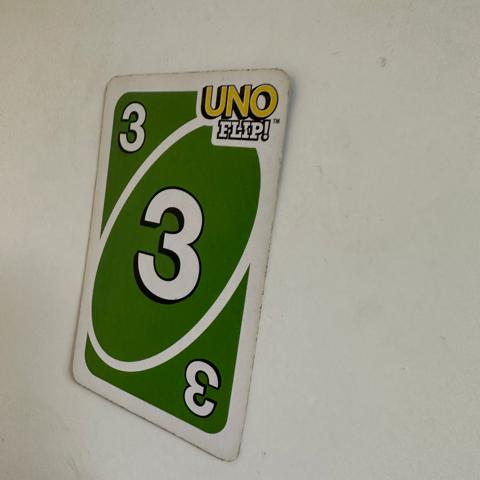6_green: (133, 186, 213, 308), (182, 356, 226, 417), (119, 99, 154, 153)
